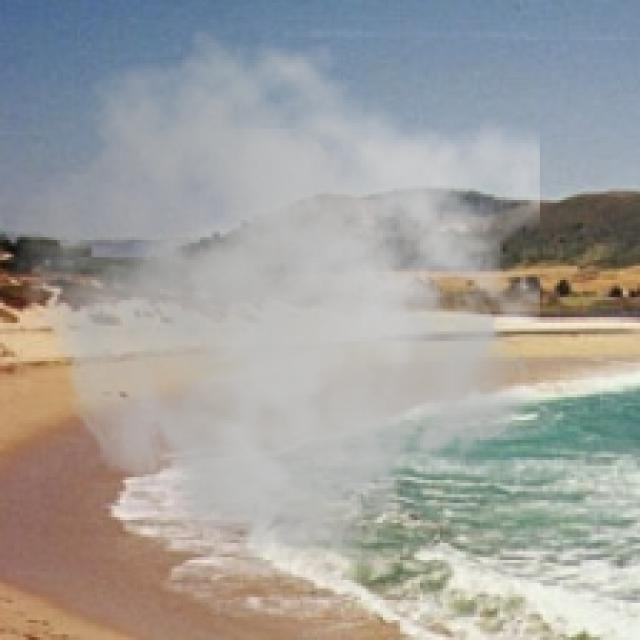Smoke: (11, 25, 540, 578)
